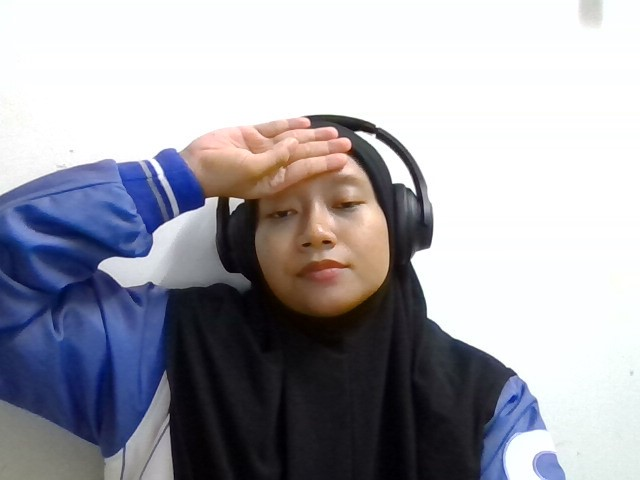Demam: (205, 116, 368, 220)
